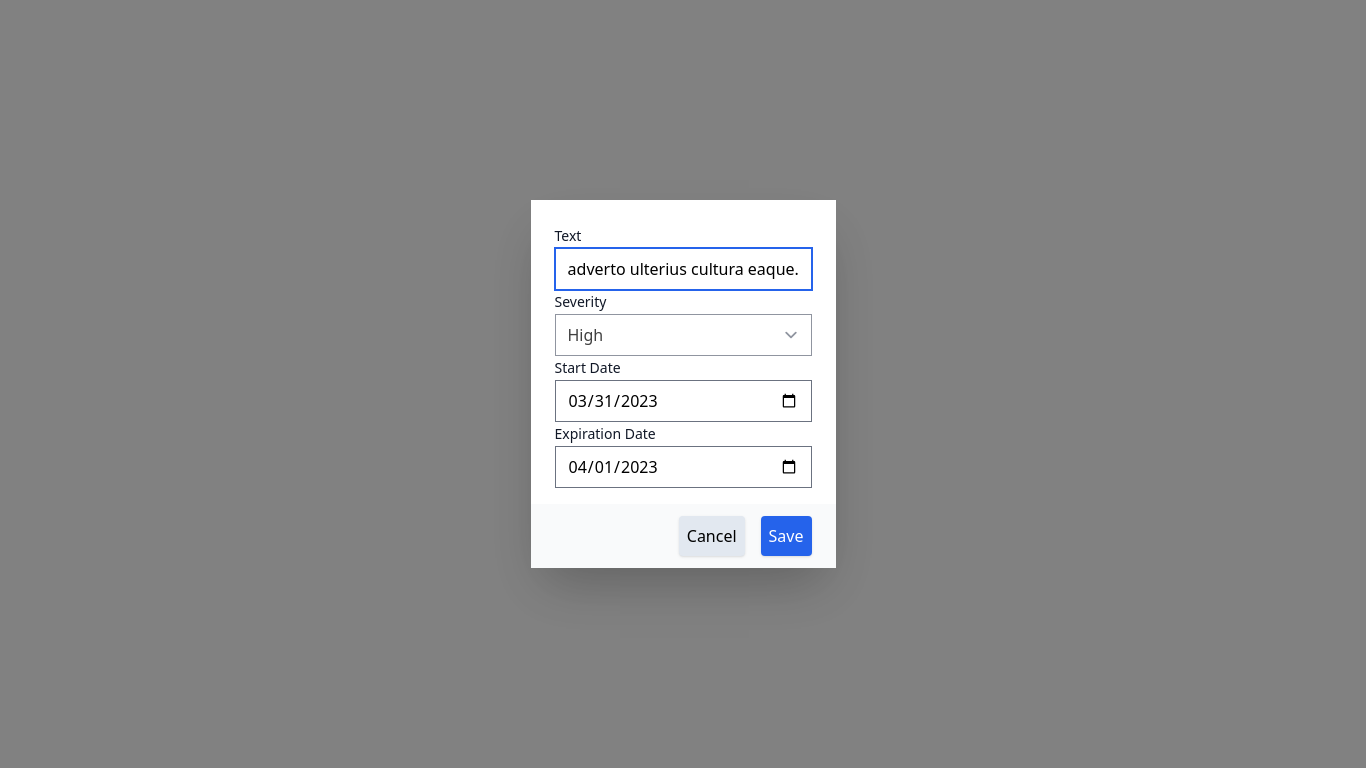
Scenario: EditAlertModal › when saving then disabled
What coordinates should you click on to do the following:
click the button with aria-label "save button"
I would click on:
 (786, 536)
Its box is x1=761 y1=516 x2=812 y2=556.
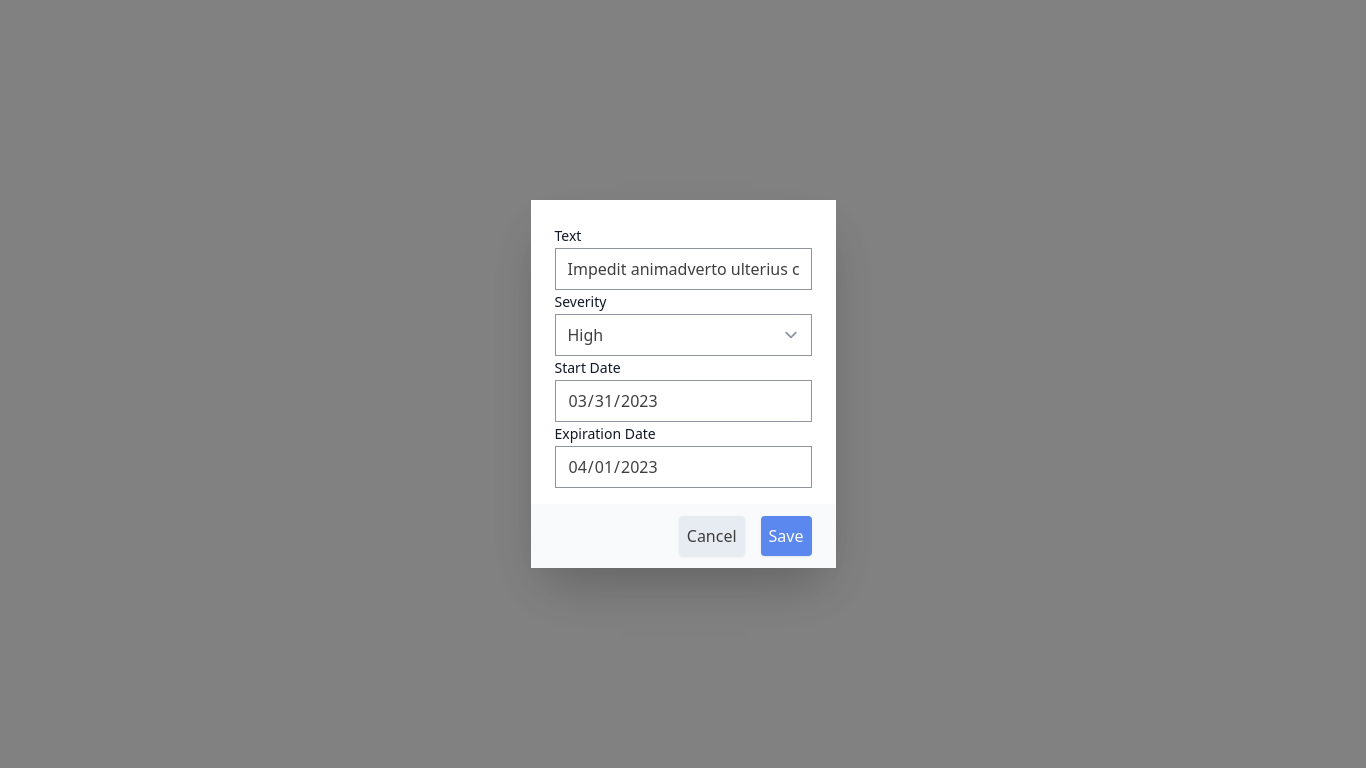
Expected: the dropdown named "severity" is disabled, x1=554 y1=314 x2=812 y2=356
Now the field named "text" is disabled, box x1=554 y1=248 x2=812 y2=290
Now the button with aria-label "save button" is disabled, box x1=761 y1=516 x2=812 y2=556
